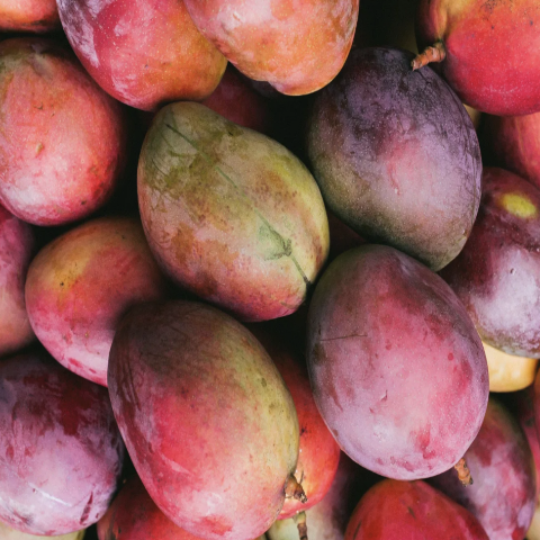mango: (83, 289, 321, 540), (304, 241, 495, 512), (112, 112, 352, 324), (297, 42, 493, 276)
